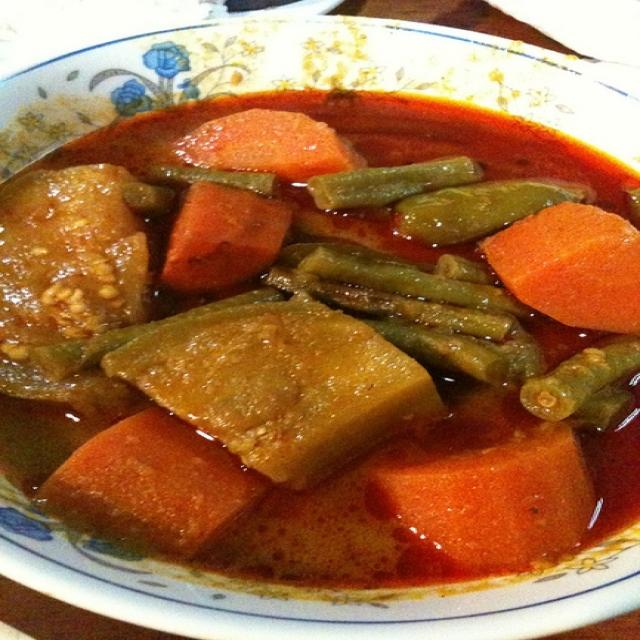熟制海鲜: (13, 42, 630, 629)
